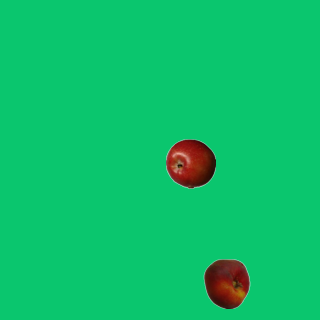Apple Braeburn: (165, 138, 215, 188)
Nectarine Flat: (201, 258, 251, 308)
